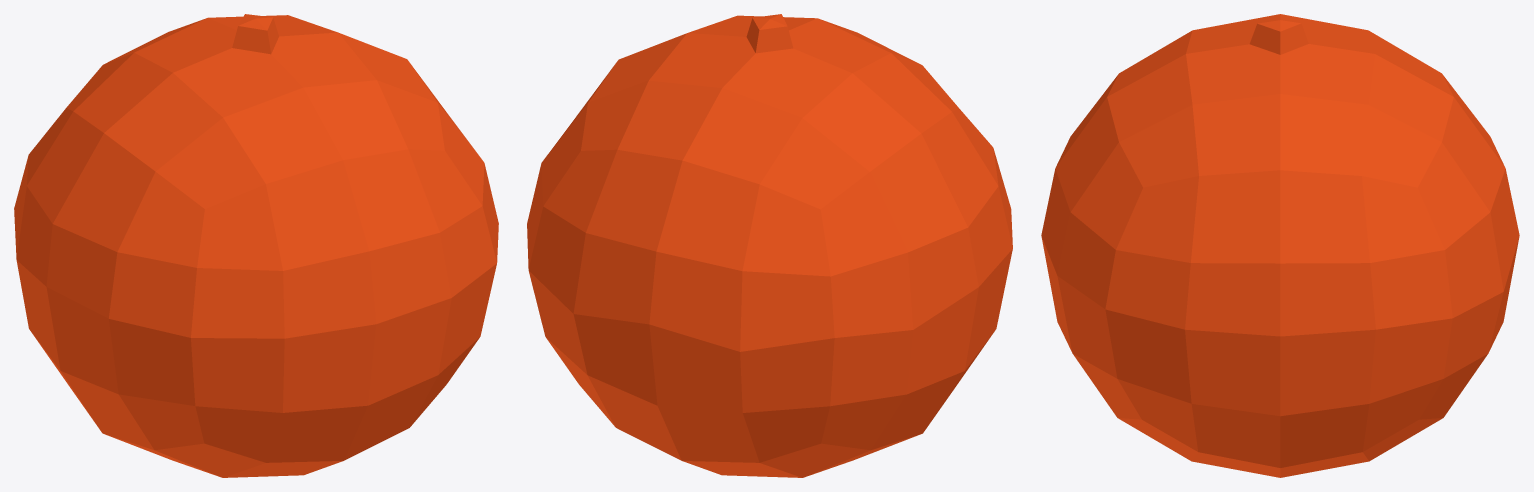
The model's file is Food_Orange.glb.
The picture shows the model from 3 angles, left to right: view 1: azimuth 30°, elevation 25°; view 2: azimuth 150°, elevation 25°; view 3: azimuth 270°, elevation 25°; orthographic projection.
Parts seen in each view (by area): view 1: Orange; view 2: Orange; view 3: Orange.
Part boxes in pixels (x1,y1,x2,y2): Orange: (14, 14, 498, 477); Orange: (527, 14, 1012, 477); Orange: (1041, 14, 1519, 477).
Size of the model in its own units: 74.49 by 74.24 by 74.49.
